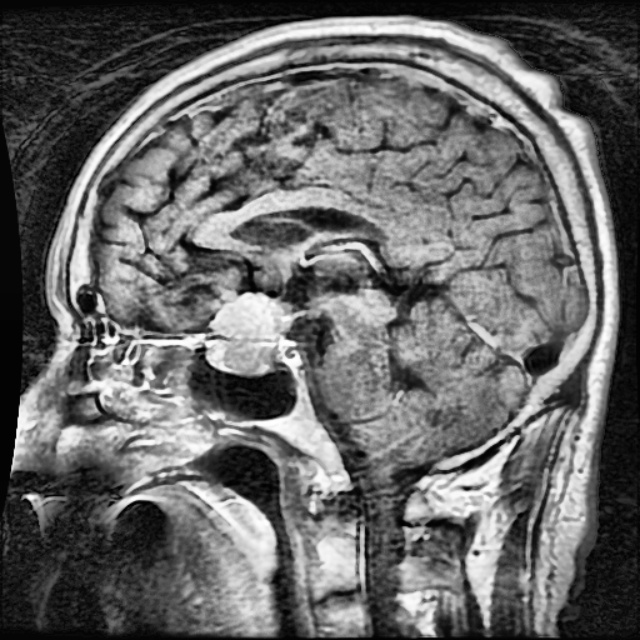Pituitary: (207, 289, 288, 372)
